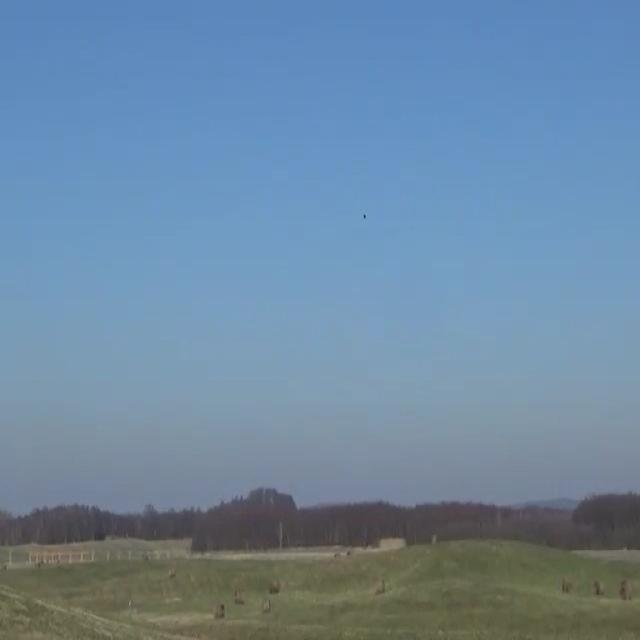bird: (362, 210, 369, 220)
